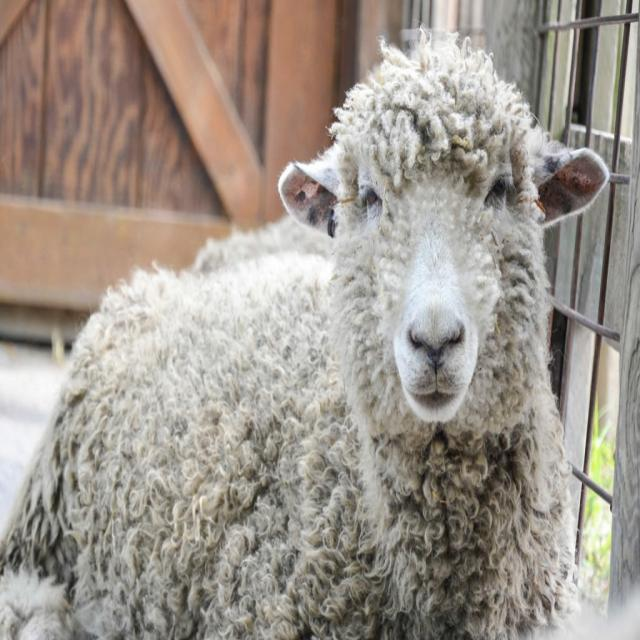sheep: (0, 30, 609, 639)
